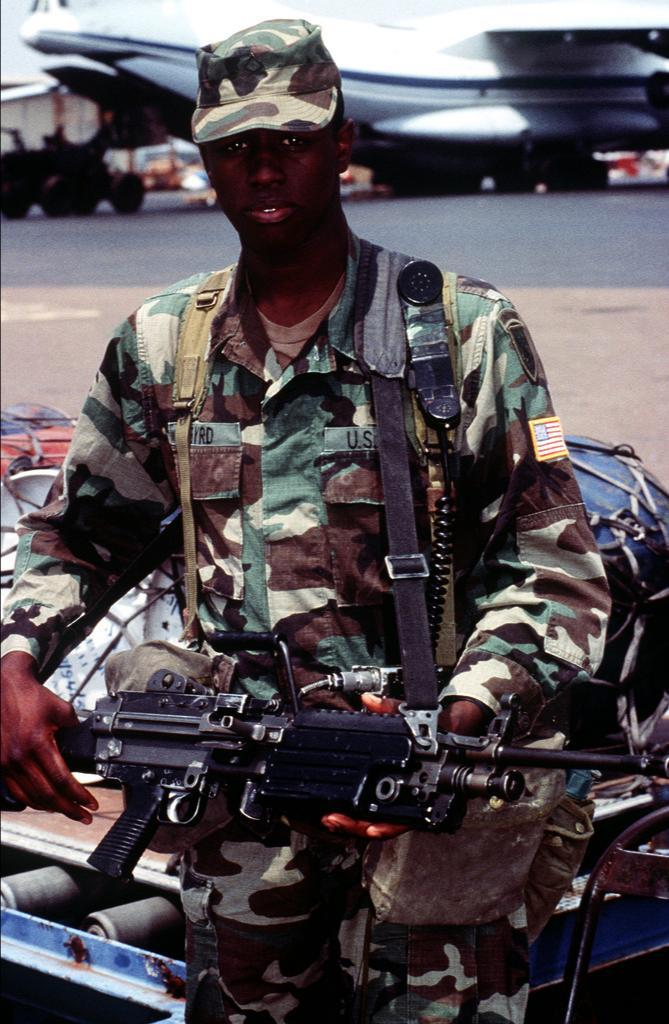gun: (9, 618, 669, 874)
